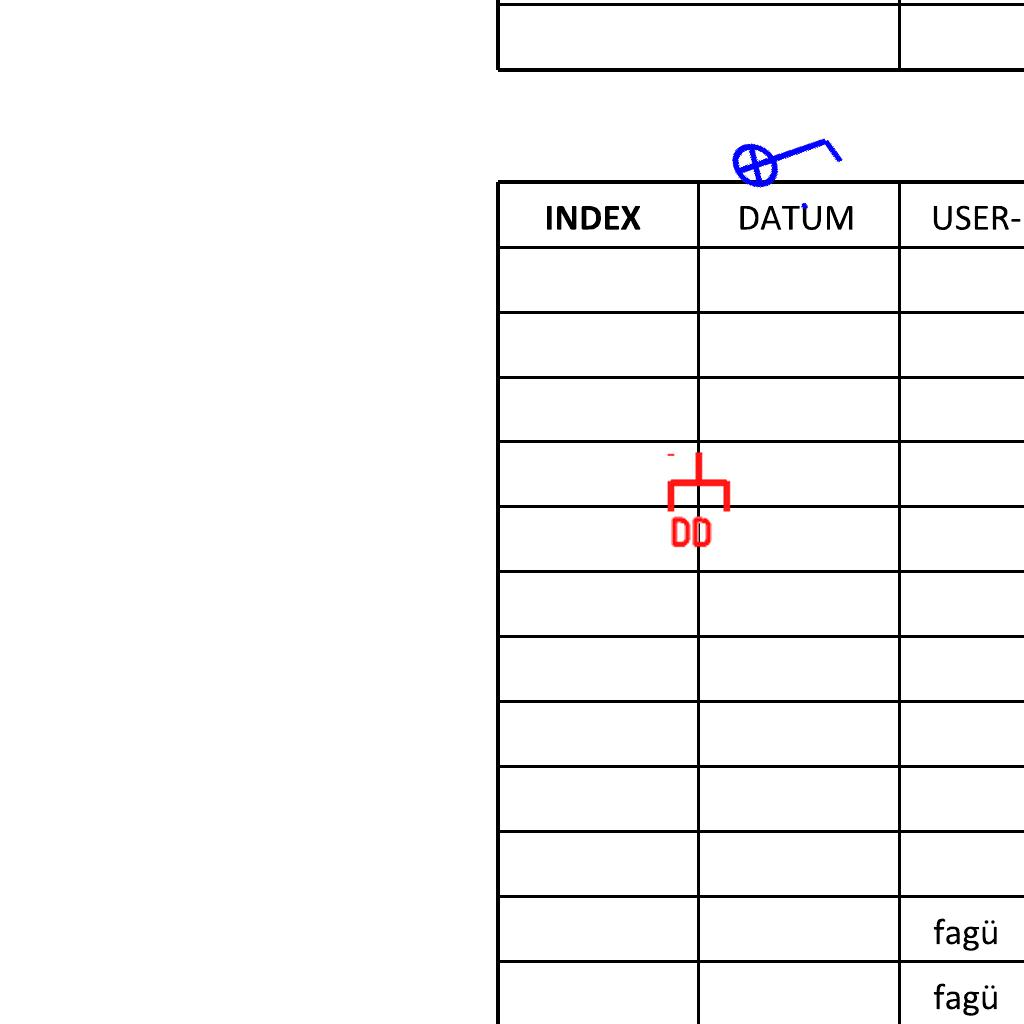Ausschalter_beleuchtet: (711, 83, 859, 229)
Datenanschluss_zweifach: (666, 449, 735, 552)
